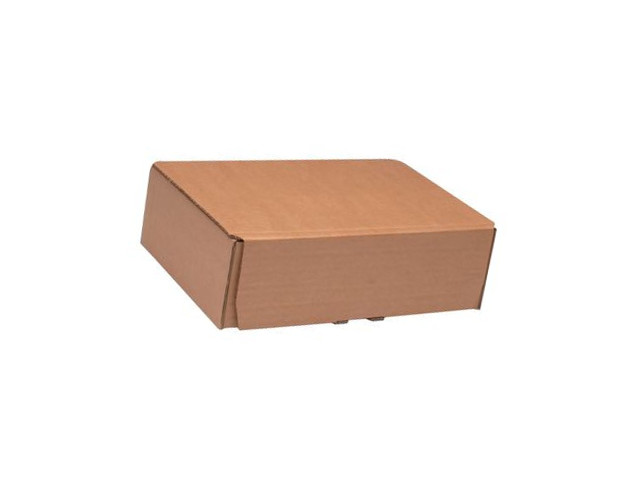cardboard: (142, 162, 497, 328)
